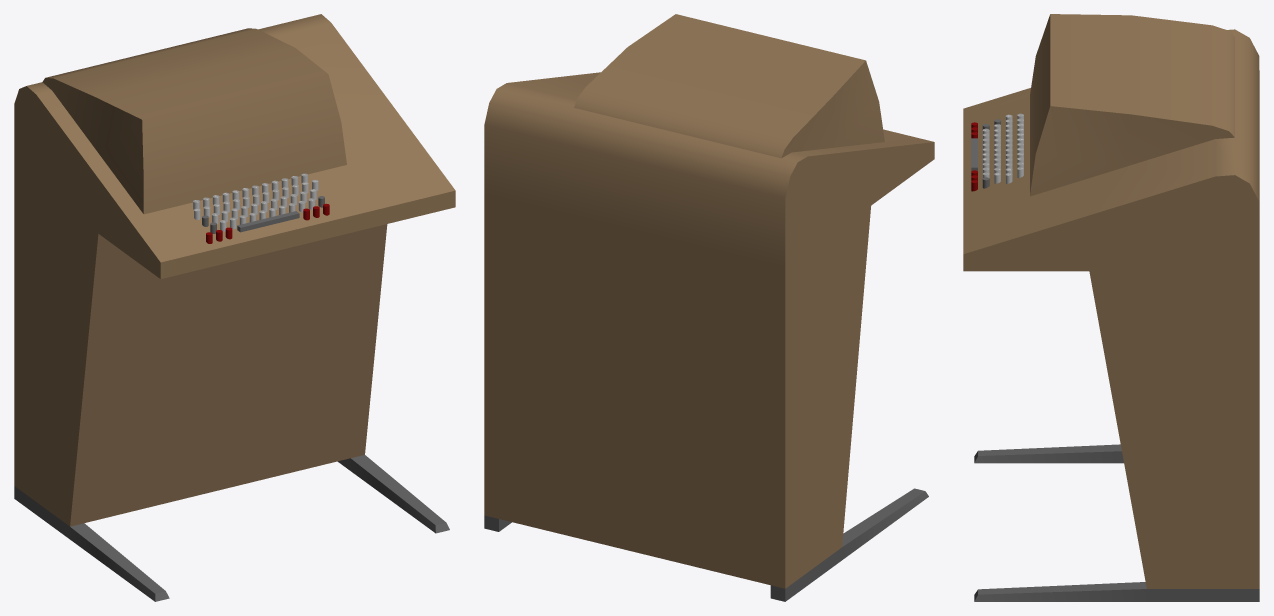
The model's file is tty35.FBX.
3 views of the same model, side by side, from view 1: azimuth 30°, elevation 25°; view 2: azimuth 150°, elevation 25°; view 3: azimuth 270°, elevation 25° (orthographic). The views are drawn at different scales.
Visible parts, largest first — view 1: tty35, Box227; view 2: tty35, Box227; view 3: Box227, tty35.
Part boxes in pixels (box(x1,y1,x2,y2)): tty35: box(14, 172, 449, 601); Box227: box(14, 14, 455, 278); tty35: box(484, 195, 928, 601); Box227: box(484, 14, 934, 268); Box227: box(963, 14, 1259, 271); tty35: box(974, 271, 1259, 601).
Size of the model in its own units: 60 by 51.59 by 87.25.
